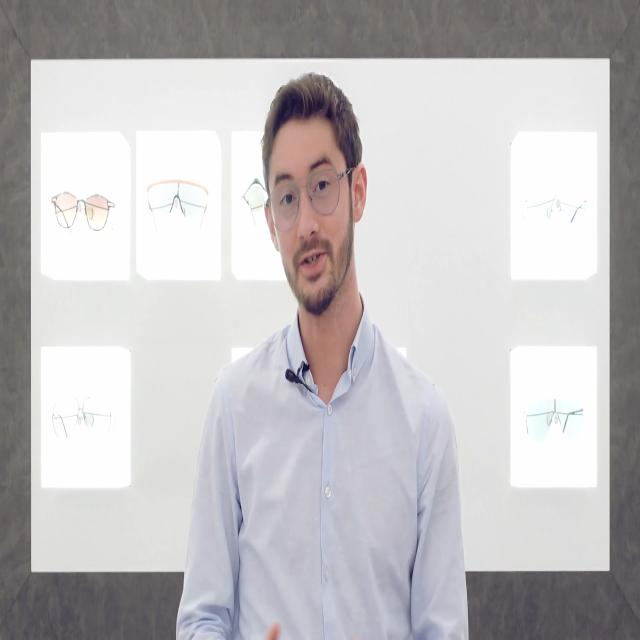dress: (178, 290, 468, 640)
glasses: (268, 162, 341, 232), (147, 174, 209, 227), (52, 190, 111, 234)
